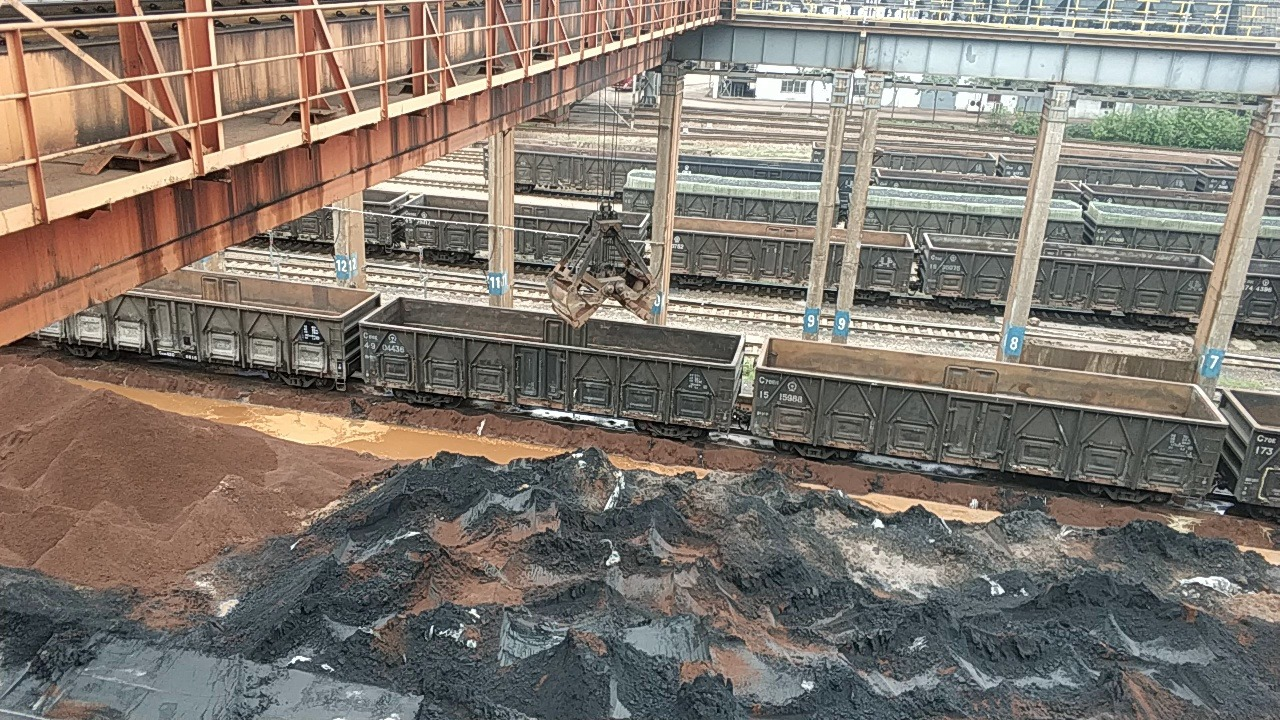grab: (539, 192, 663, 329)
